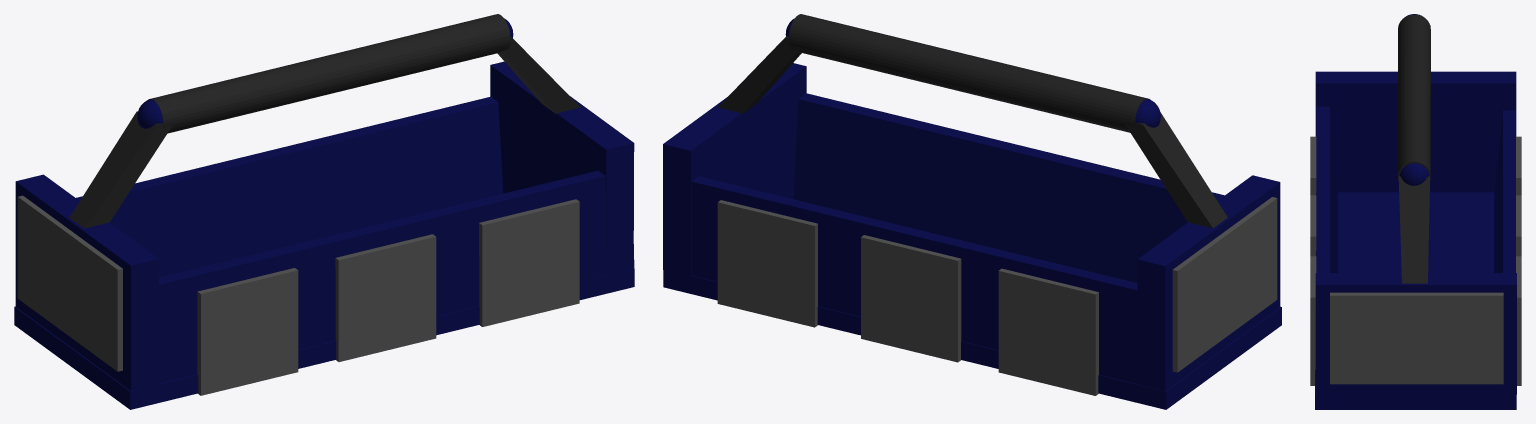
Rendered from Usertoolbox.fbx.
3 renders of one model, left to right at view 1: azimuth 30°, elevation 25°; view 2: azimuth 150°, elevation 25°; view 3: azimuth 270°, elevation 25°, orthographic. The views are drawn at different scales.
Parts seen in each view (by area): view 1: Userbox; view 2: Userbox; view 3: Userbox.
Part boxes in pixels (<box>): Userbox: <box>14,14,634,409</box>; Userbox: <box>663,14,1281,409</box>; Userbox: <box>1310,14,1521,409</box>.
Bounding box in the file's own units: 1059 × 489 × 432.
